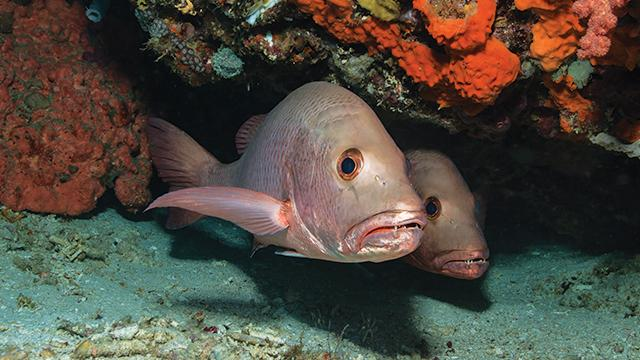Mulut: (337, 195, 438, 272), (431, 241, 509, 296)
Sirip Dada: (136, 177, 304, 247)
Sirip Ekor: (134, 107, 226, 238)
Sirip Perut: (271, 241, 323, 273)
Sirip Punggung: (228, 98, 288, 160)
